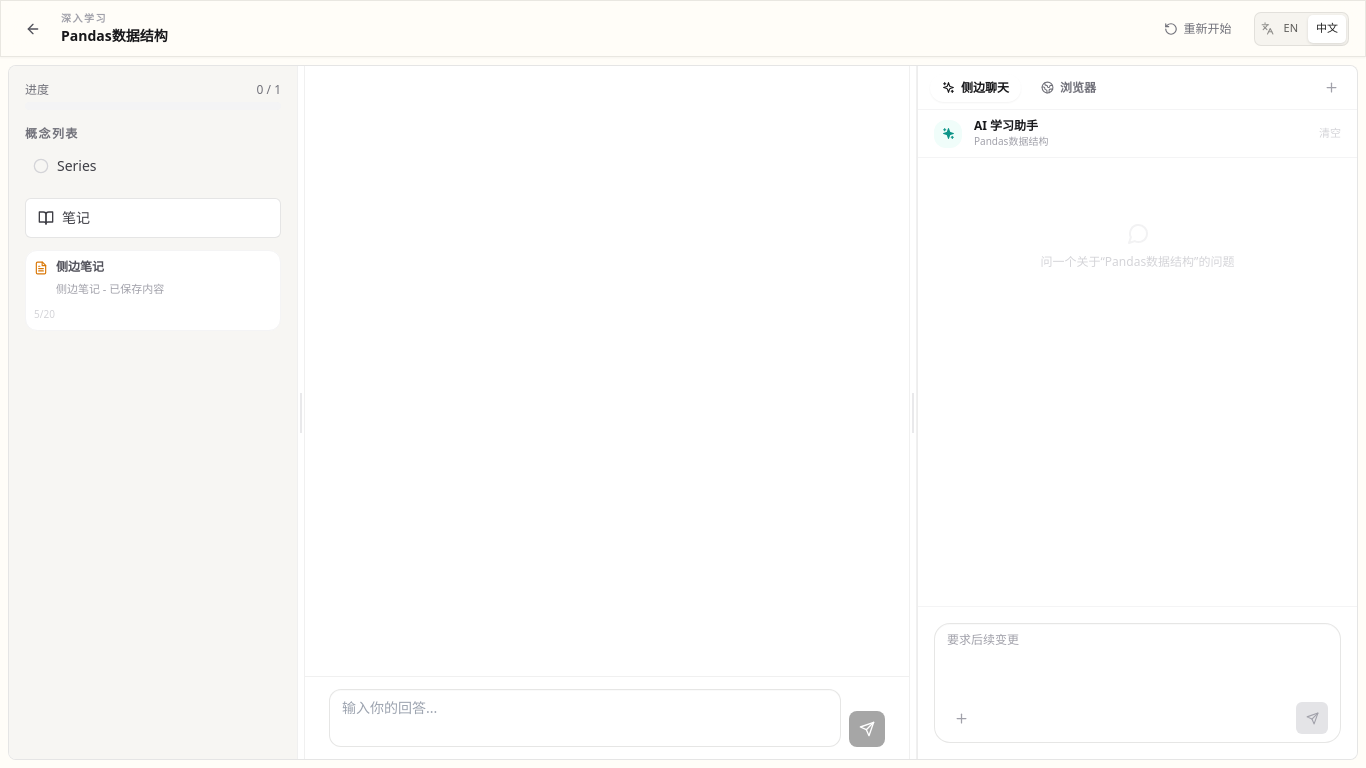
Test: DeepLearnPage › shows saved node notes below the notes button and opens a rendered side reader
The image size is (1366, 768).
What coordinates should you click on to do the following:
click the button "侧边笔记 侧边笔记 - 已保存内容 5/20"
I would click on:
 (135, 290)
Its box is [34,259,236,322].
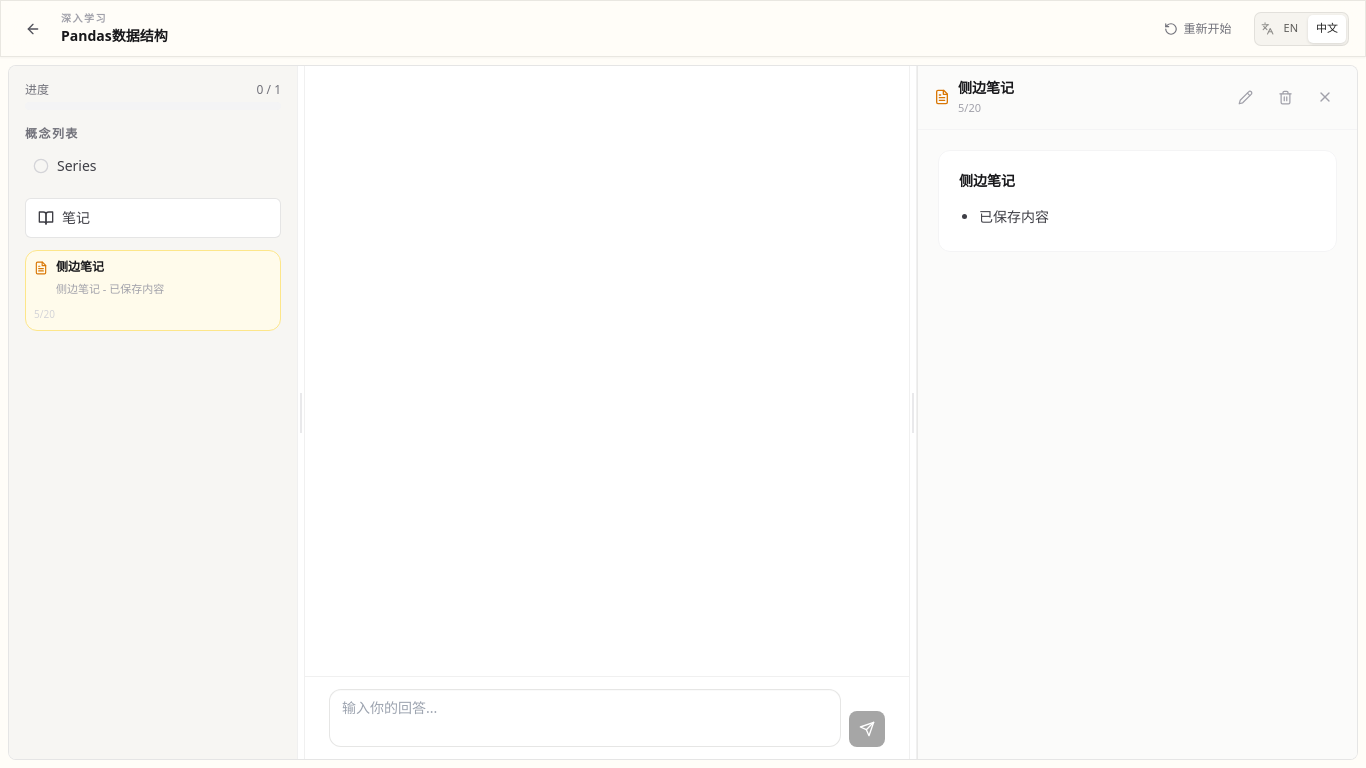
Expected: the 2nd text "侧边笔记" is shown, [56,258,104,275]
Now the element named "笔记阅读区" is shown, box [917,66,1357,759]
Now the list item "已保存内容" is shown, box [979,206,1049,226]
What coordinates should you click on to do the following:
click the button named "编辑笔记"
I would click on:
 (1245, 97)
Its box is [1229,81,1261,113].
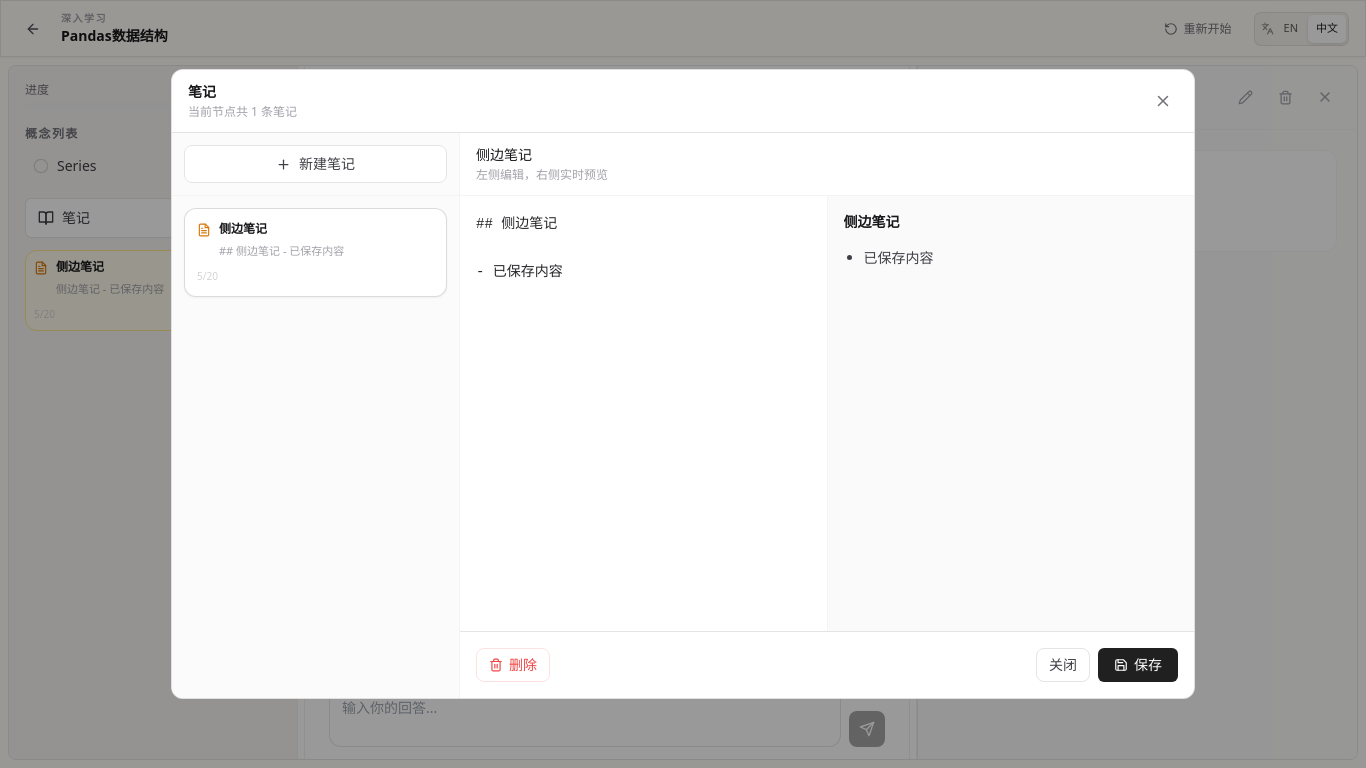
Now the text "当前节点共 1 条笔记" is shown, box [188,104,297,120]
